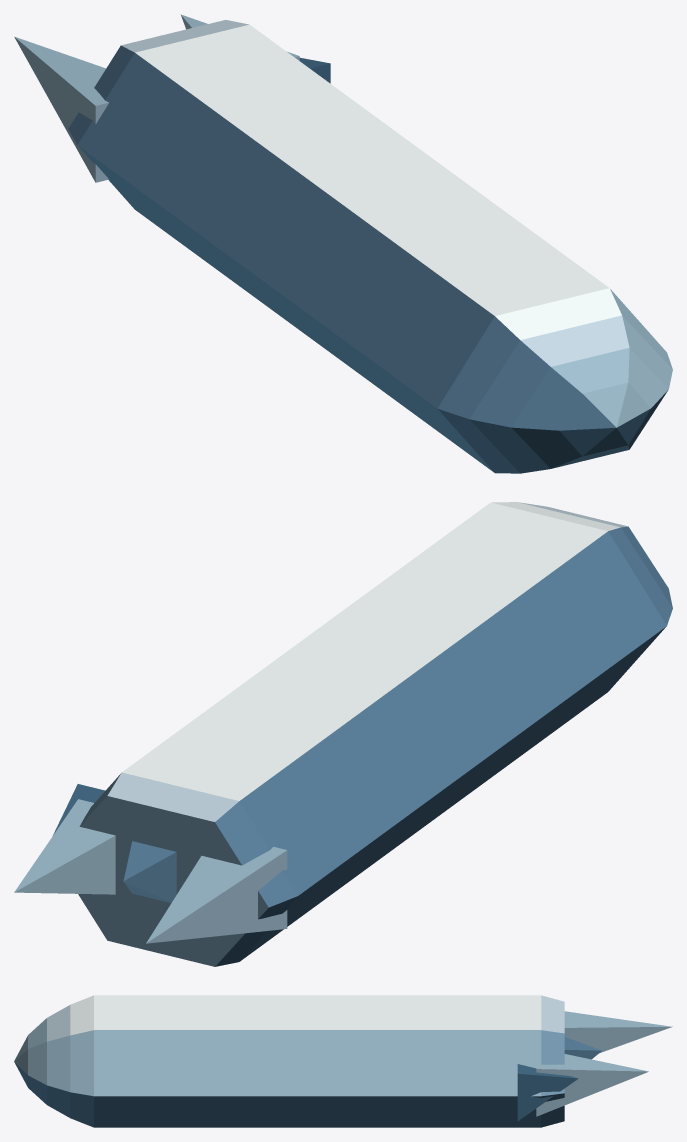
Rendered from newshd-191.glb.
The picture shows the model from 3 angles, top to bottom: view 1: azimuth 30°, elevation 25°; view 2: azimuth 150°, elevation 25°; view 3: azimuth 270°, elevation 25°; orthographic projection. The views are drawn at different scales.
Parts seen in each view (by area): view 1: newshd-191; view 2: newshd-191; view 3: newshd-191.
Boxes of the visible parts, x1,y1,x2,y2 form: newshd-191: (14, 14, 672, 473); newshd-191: (14, 502, 672, 966); newshd-191: (14, 995, 672, 1127).
Size of the model in its own units: 0.5947 by 0.3811 by 2.33.
